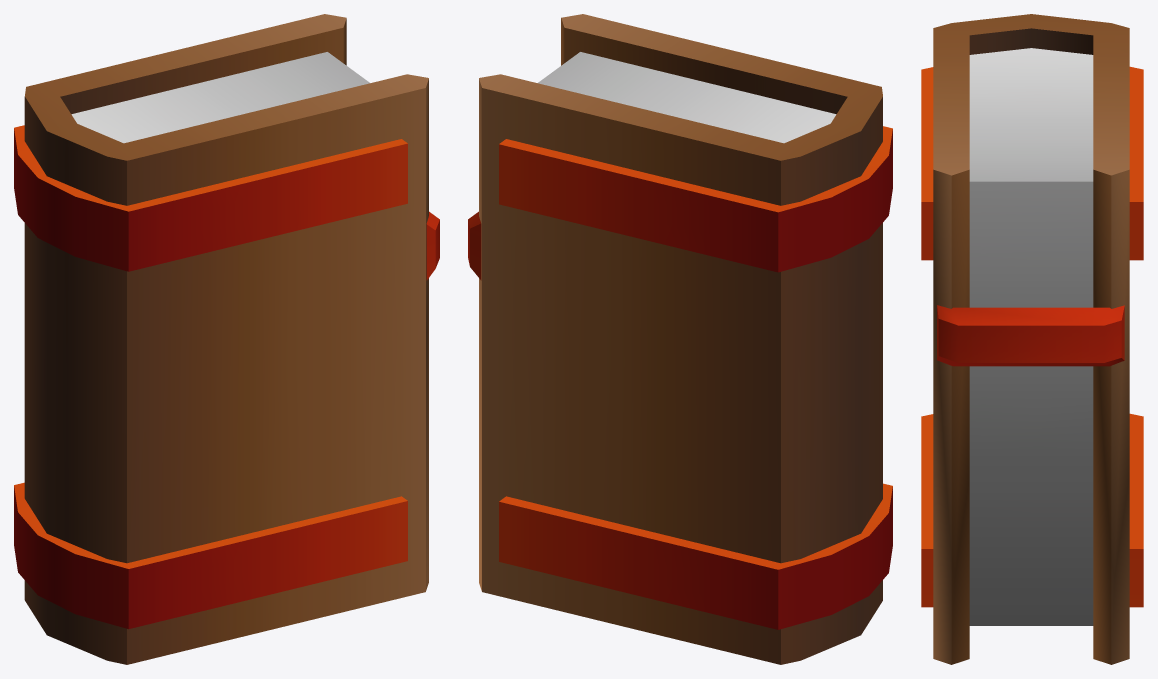
File: SpellBook1h_03.fbx
3 renders of one model, left to right at view 1: azimuth 30°, elevation 25°; view 2: azimuth 150°, elevation 25°; view 3: azimuth 270°, elevation 25°, orthographic. The views are drawn at different scales.
Parts seen in each view (by area): view 1: SpellBook1h_03; view 2: SpellBook1h_03; view 3: SpellBook1h_03.
Part boxes in pixels (x1,y1,x2,y2): SpellBook1h_03: (14,14,439,664); SpellBook1h_03: (468,14,892,664); SpellBook1h_03: (921,14,1143,664).
Size of the model in its own units: 32.22 by 42.65 by 17.58.
